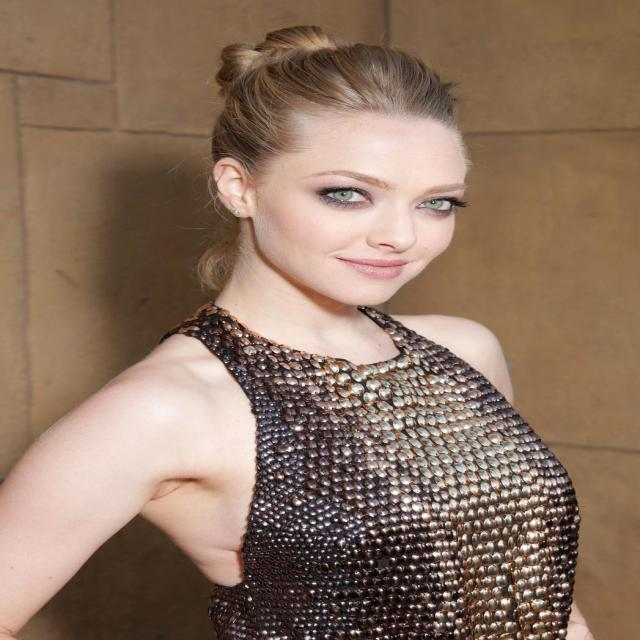no-earmuff: (202, 142, 272, 226)
